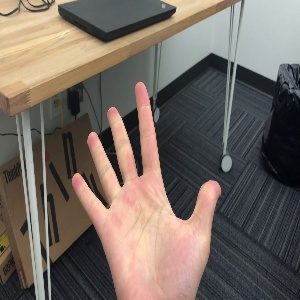hand: (71, 82, 222, 300)
